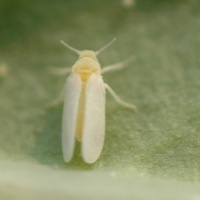insect: (60, 38, 135, 163)
